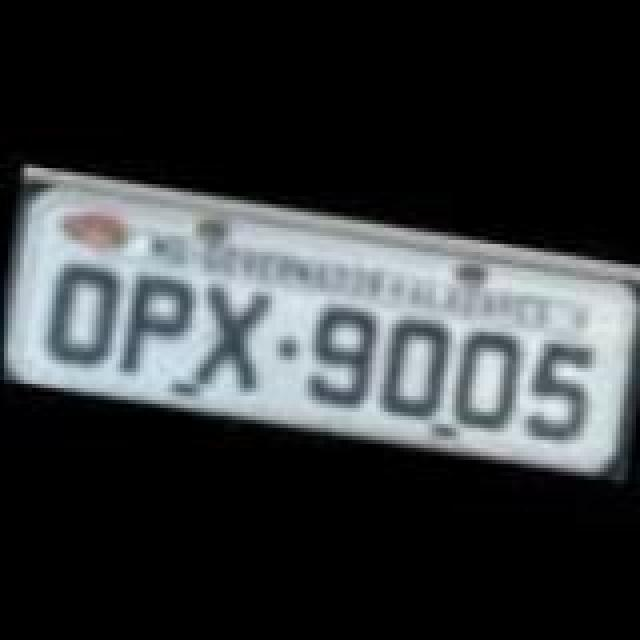5: (516, 330, 604, 446)
9: (296, 296, 384, 412)
O: (40, 250, 124, 374), (446, 320, 530, 432), (374, 318, 458, 430)
P: (112, 262, 196, 382)
X: (192, 284, 276, 400)
